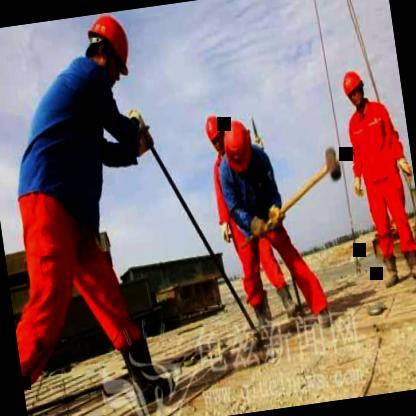helmet: (80, 10, 134, 83), (222, 117, 255, 174), (338, 64, 368, 112), (202, 109, 229, 156)
